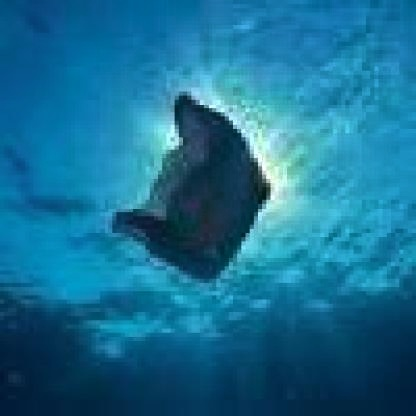pbag: (108, 91, 275, 283)
